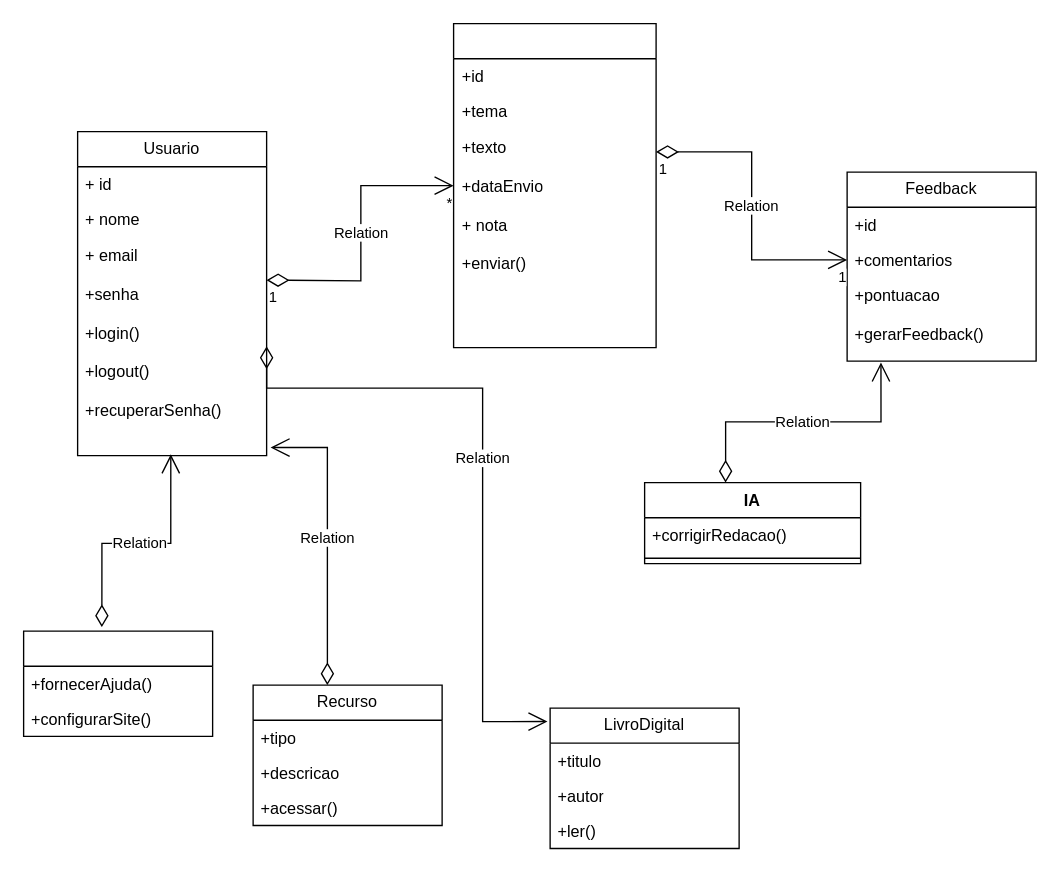
This 1060x876 diagram has some shape labels left out. Here are the shapes that lost their labels. From the top down, the box of each, then its label:
(452, 22, 656, 348): Redacao
(22, 630, 213, 736): ChatBot
